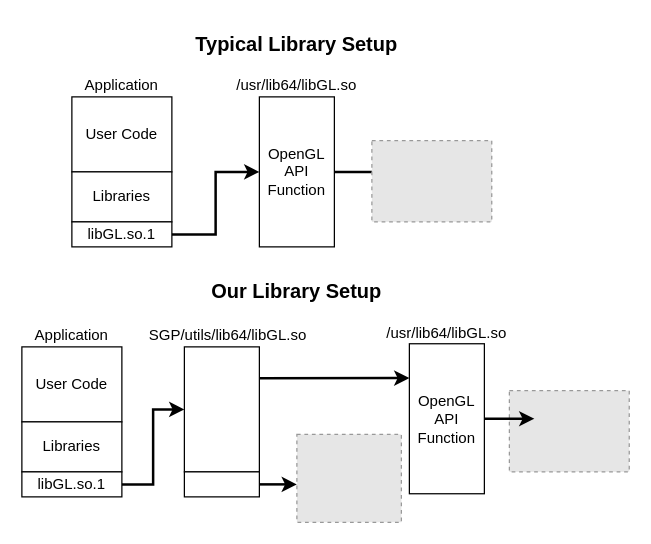
The diagram is 651 pixels wide and 544 high, and some of its shapes have lost their labels. Grey dashed boxes stand in for pictures. The box of each missing label's shape, as (x1, y1, x2, y2) in pixels:
apitrace OpenGL: (183, 346, 259, 472)
libSGP.a: (183, 471, 259, 497)
